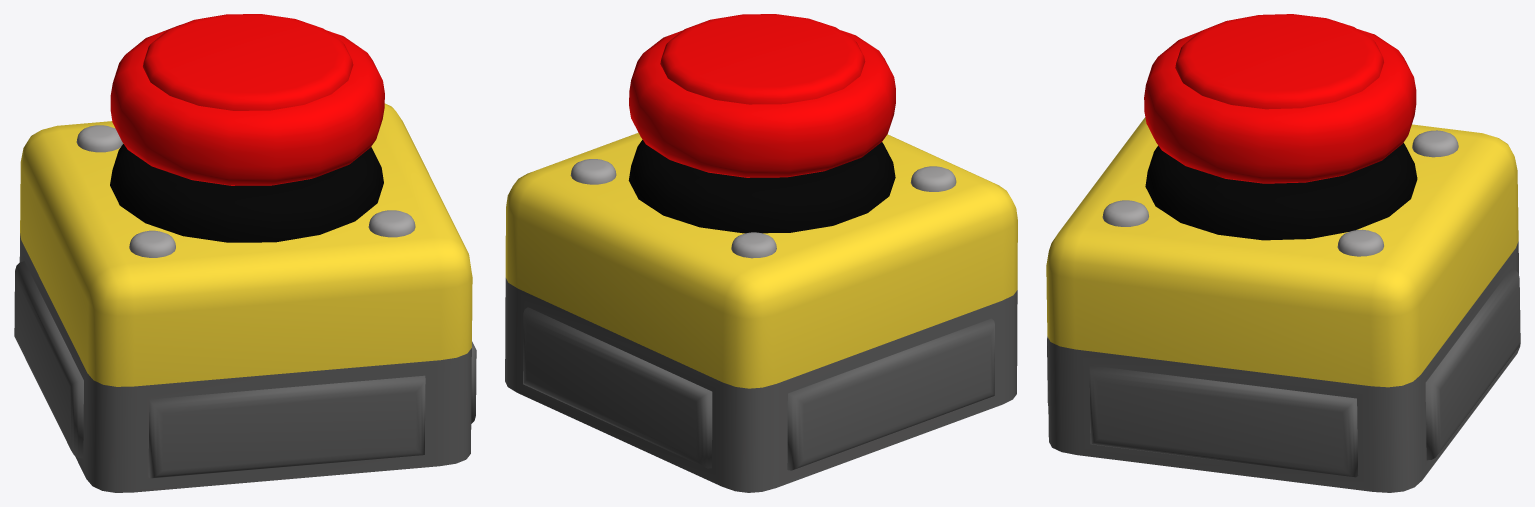
Rendered from button_pressed.glb.
The picture shows the model from 3 angles, left to right: view 1: azimuth 30°, elevation 25°; view 2: azimuth 150°, elevation 25°; view 3: azimuth 270°, elevation 25°; orthographic projection. The views are drawn at different scales.
Parts seen in each view (by area): view 1: Base Yellow, Base Grey, Top Button, Black Cylinder, Screw1, Screw2, Screw3; view 2: Base Yellow, Base Grey, Top Button, Black Cylinder, Screw2, Screw3, Screw4; view 3: Base Yellow, Base Grey, Top Button, Black Cylinder, Screw3, Screw4, Screw1.
Boxes of the visible parts, x1,y1,x2,y2 form: Base Yellow: (20,103,472,386); Base Grey: (14,233,476,492); Top Button: (110,14,384,185); Black Cylinder: (110,144,383,242); Screw1: (368,210,415,237); Screw2: (129,230,175,257); Screw3: (76,125,122,152); Base Yellow: (505,132,1017,388); Base Grey: (505,278,1017,492); Top Button: (629,14,895,177); Black Cylinder: (628,139,895,233); Screw2: (910,166,956,191); Screw3: (731,232,776,258); Screw4: (570,159,616,184); Base Yellow: (1046,117,1518,387); Base Grey: (1047,241,1520,492); Top Button: (1144,14,1416,183); Black Cylinder: (1145,143,1417,240); Screw3: (1412,130,1458,157); Screw4: (1337,229,1383,256); Screw1: (1102,200,1148,226).
Bounding box in the file's own units: 0.6079 × 0.4892 × 0.6097.
